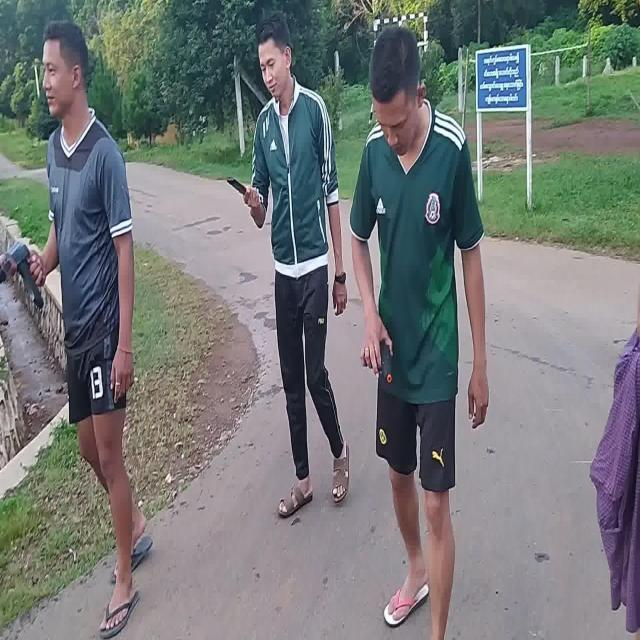gun: (0, 243, 42, 307), (365, 347, 391, 383)
